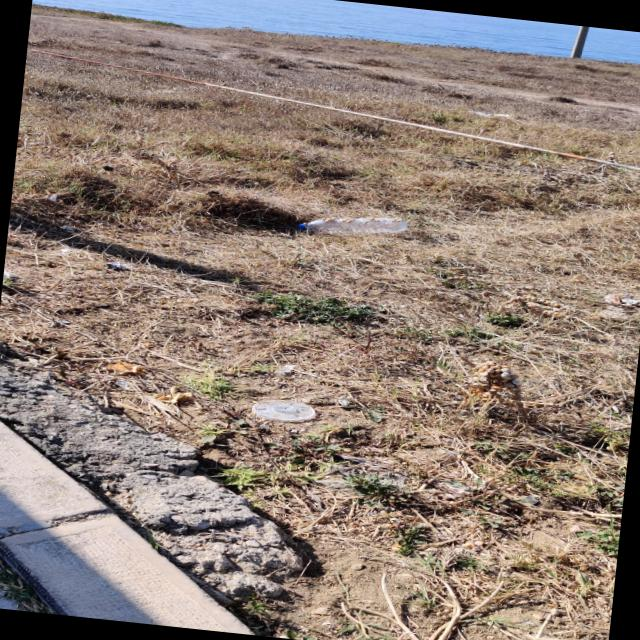less trash: (300, 217, 408, 233), (251, 399, 317, 422)
